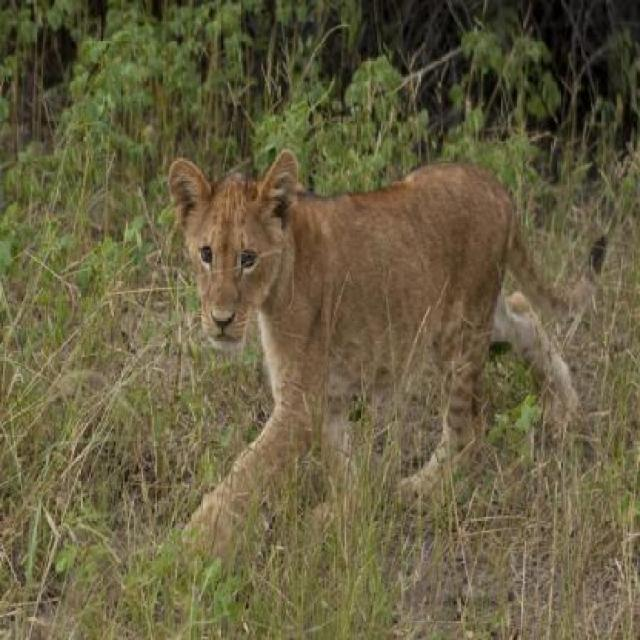Lion: (154, 137, 621, 583)
